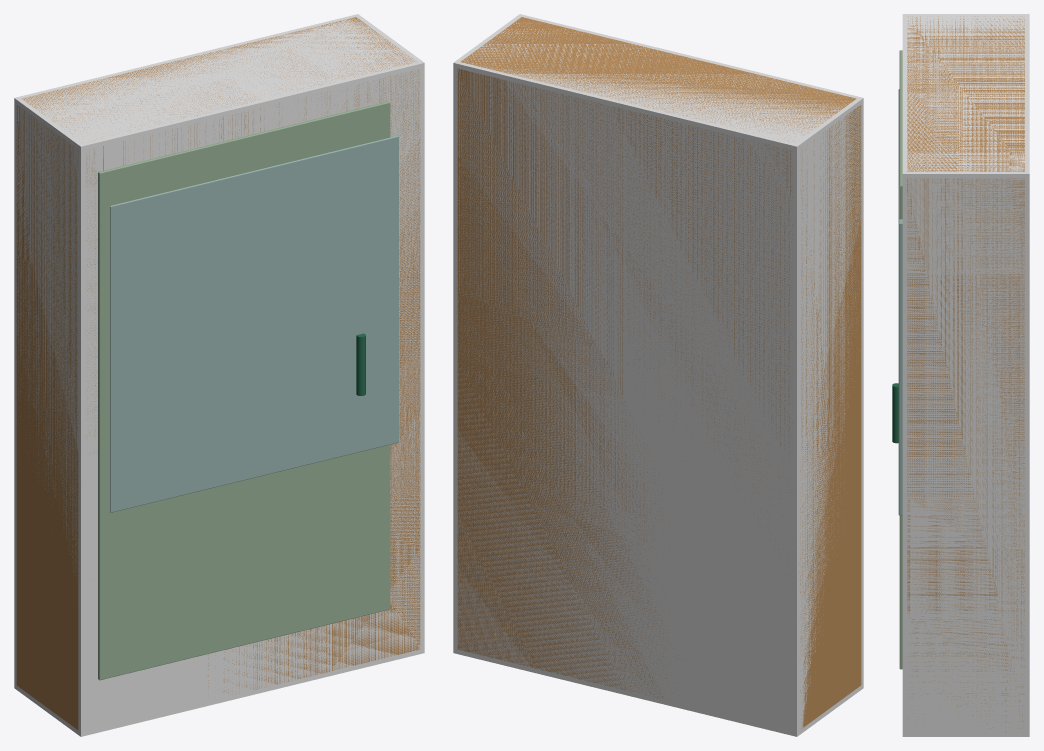
The model's file is trophy-case_retail.glb.
3 renders of one model, left to right at view 1: azimuth 30°, elevation 25°; view 2: azimuth 150°, elevation 25°; view 3: azimuth 270°, elevation 25°, orthographic. The views are drawn at different scales.
Parts seen in each view (by area): view 1: COL_trophy-case, MESH_DisplayGlass, MESH_Door_01, MESH_CabinetCarcass; view 2: COL_trophy-case, MESH_CabinetCarcass; view 3: COL_trophy-case, MESH_CabinetCarcass, MESH_DisplayGlass, MESH_Door_01, MESH_Handle.
Boxes of the visible parts, x1,y1,x2,y2 form: COL_trophy-case: [14, 14, 424, 736]; MESH_DisplayGlass: [110, 134, 398, 512]; MESH_Door_01: [98, 101, 390, 680]; MESH_CabinetCarcass: [16, 17, 420, 729]; COL_trophy-case: [453, 14, 863, 736]; MESH_CabinetCarcass: [457, 17, 861, 728]; COL_trophy-case: [902, 14, 1029, 736]; MESH_CabinetCarcass: [907, 16, 1024, 732]; MESH_DisplayGlass: [898, 89, 902, 515]; MESH_Door_01: [899, 50, 902, 669]; MESH_Handle: [892, 383, 898, 443].
Size of the model in its own units: 1.25 by 2.05 by 0.4539.
